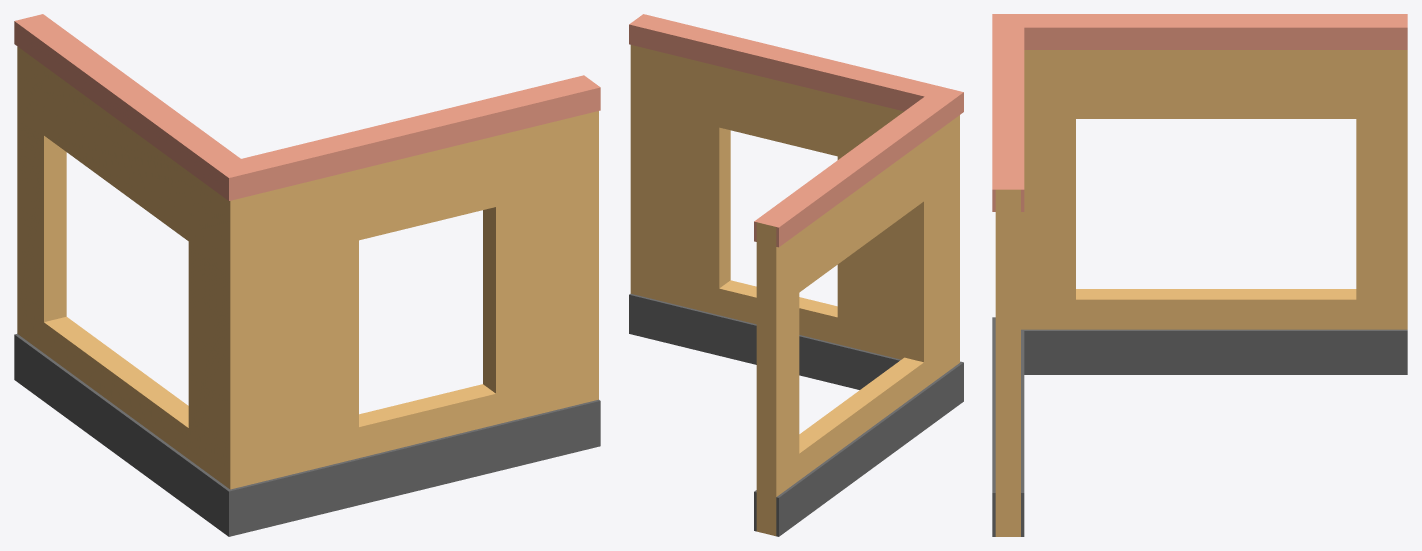
File: Wall04-05.fbx
3 renders of one model, left to right at view 1: azimuth 30°, elevation 25°; view 2: azimuth 150°, elevation 25°; view 3: azimuth 270°, elevation 25°, orthographic. The views are drawn at different scales.
Visible parts, largest first — view 1: Wall04-05; view 2: Wall04-05; view 3: Wall04-05.
Part boxes in pixels (x1,y1,x2,y2): Wall04-05: (14, 14, 600, 536); Wall04-05: (629, 14, 963, 536); Wall04-05: (992, 14, 1407, 536).
Size of the model in its own units: 3.25 by 3.25 by 3.
